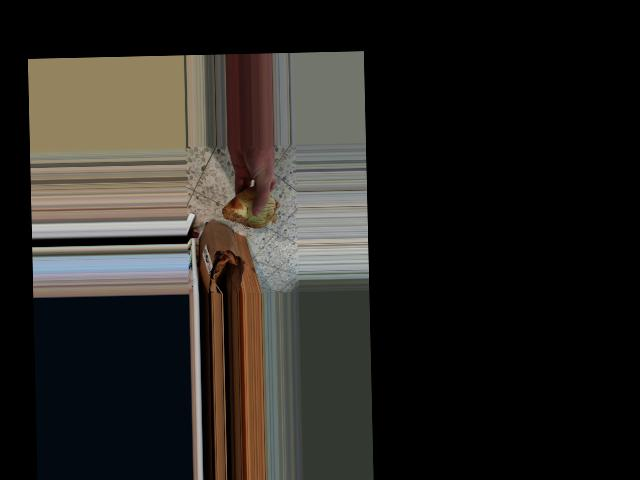onion: (219, 181, 278, 236)
